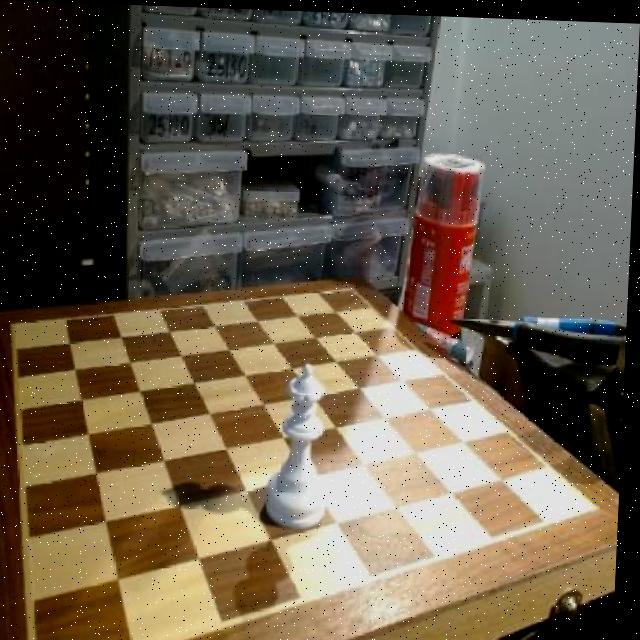white-pawn: (268, 357, 337, 536)
